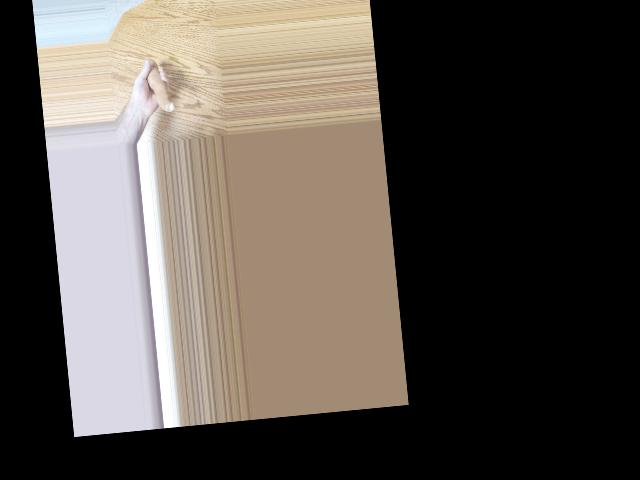sweet_potato: (144, 54, 174, 117)
